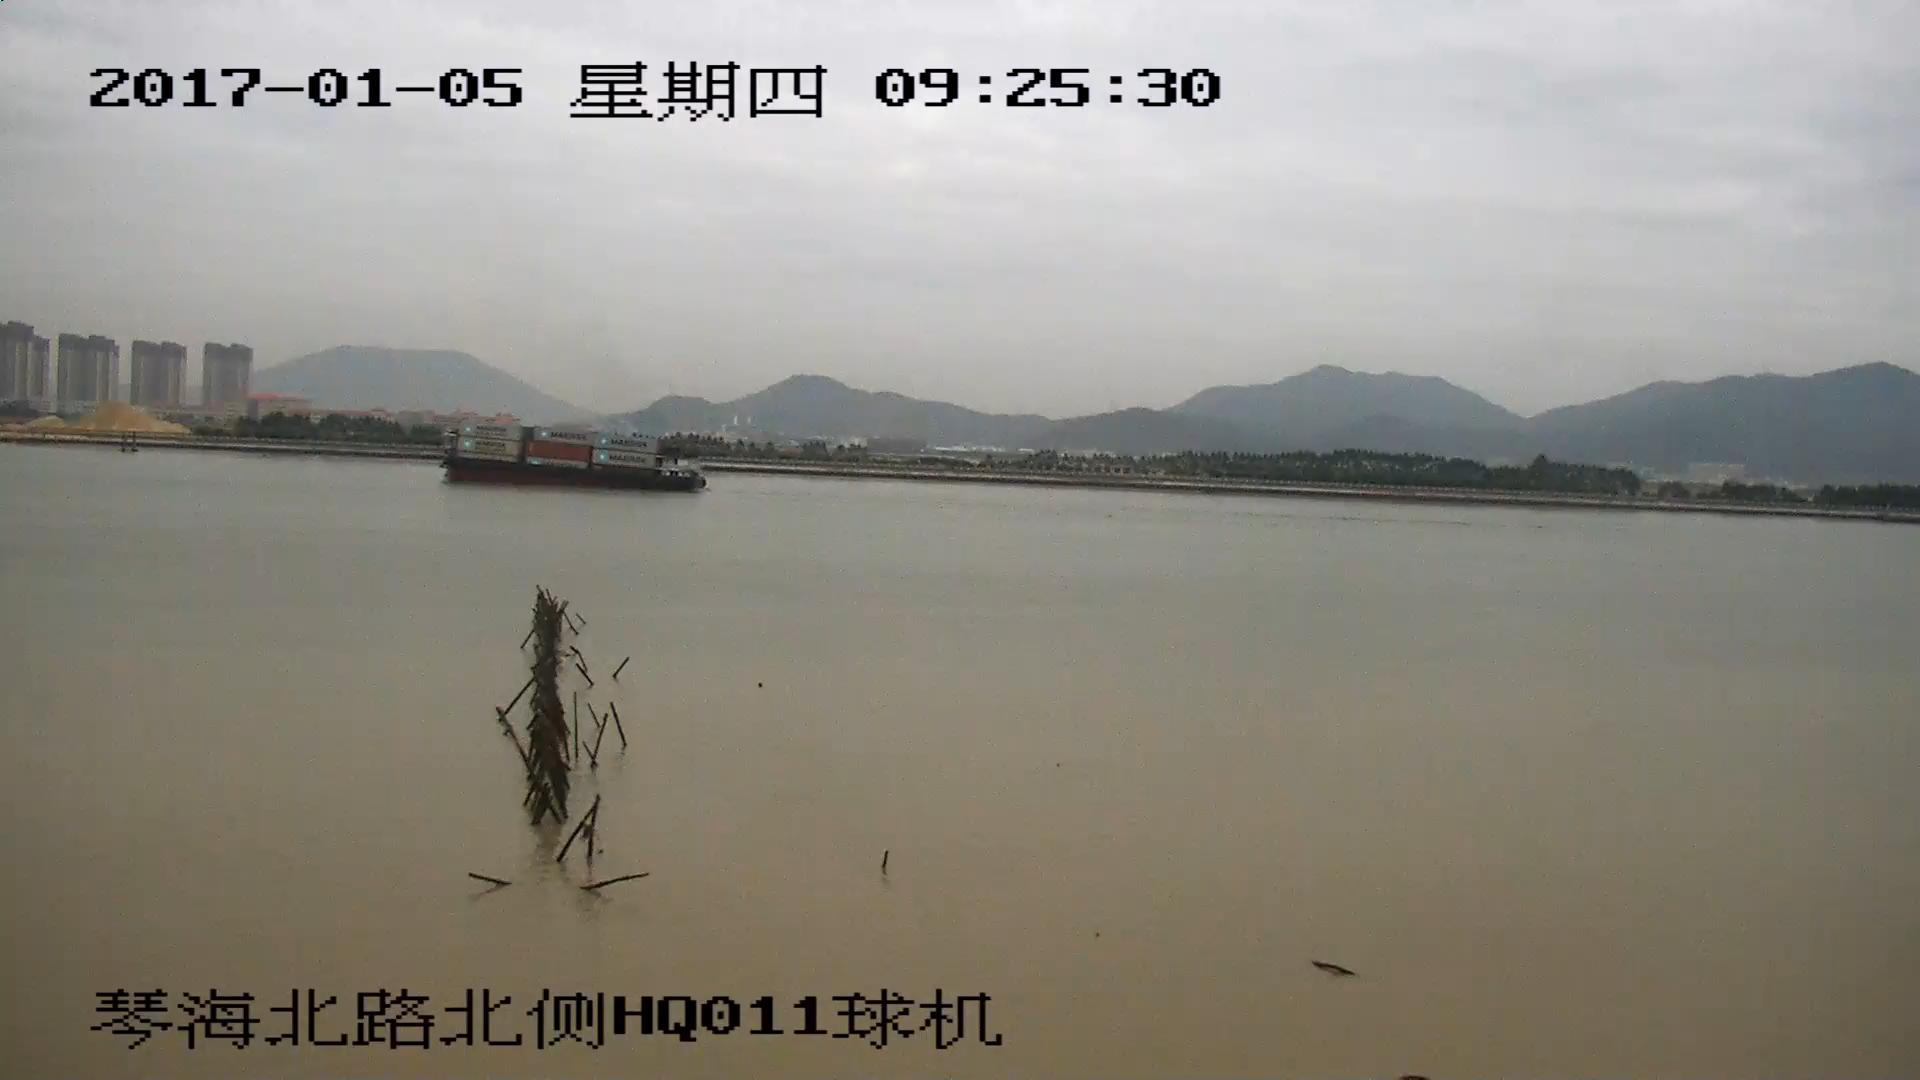Ship: (438, 427, 704, 495)
